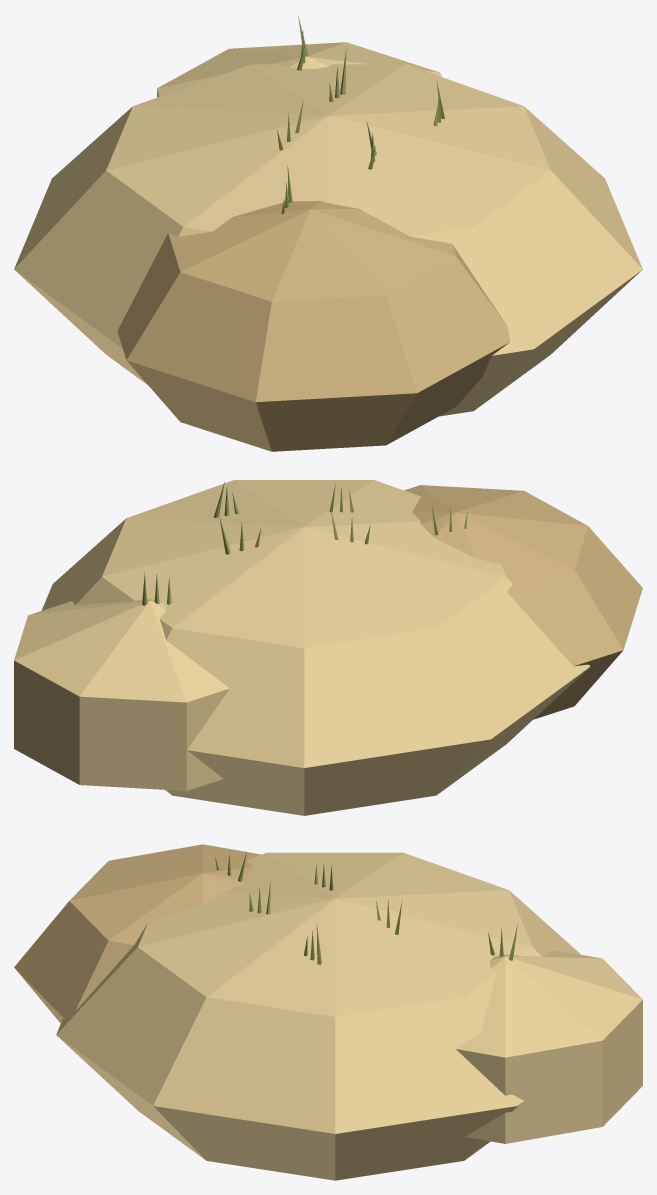
The model's file is duna.obj.
3 views of the same model, one above another, from view 1: azimuth 30°, elevation 25°; view 2: azimuth 150°, elevation 25°; view 3: azimuth 270°, elevation 25° (orthographic). The views are drawn at different scales.
Parts seen in each view (by area): view 1: duna; view 2: duna; view 3: duna.
Boxes of the visible parts, box(x1,y1,x2,y2) form: duna: box(14, 16, 642, 451); duna: box(14, 480, 642, 815); duna: box(14, 844, 642, 1180).
Size of the model in its own units: 15 by 7.43 by 16.64.
